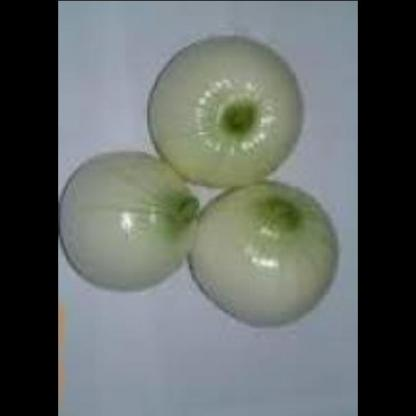onion: (153, 35, 318, 200), (185, 181, 342, 332), (59, 146, 202, 293)
